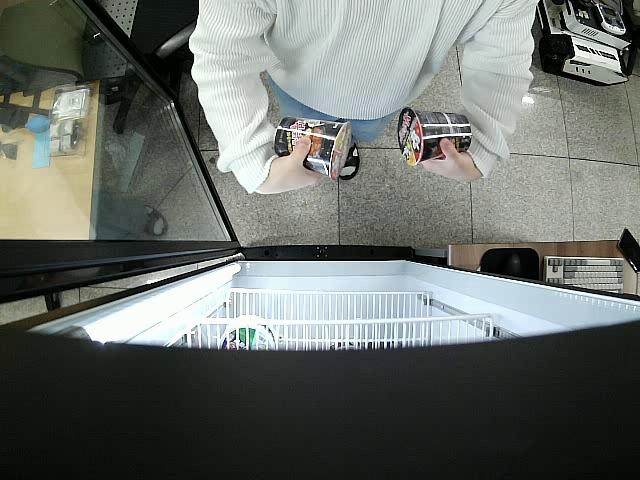00_hand: (279, 136, 323, 192), (421, 136, 471, 184)
08_buldak_S: (274, 116, 354, 181), (397, 106, 472, 167)
